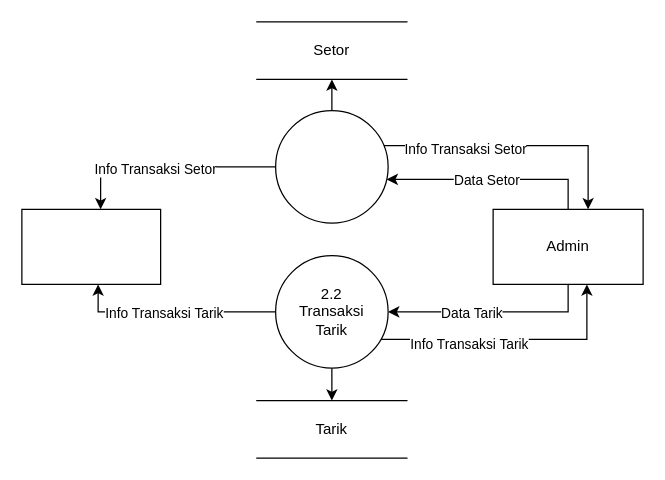
This 665x480 diagram has some shape labels left out. The centre of each missing label's shape, as x and y in pixels:
"2.1 Transaksi Setor" belongs at (331,166).
"Nasabah" belongs at (91,246).
